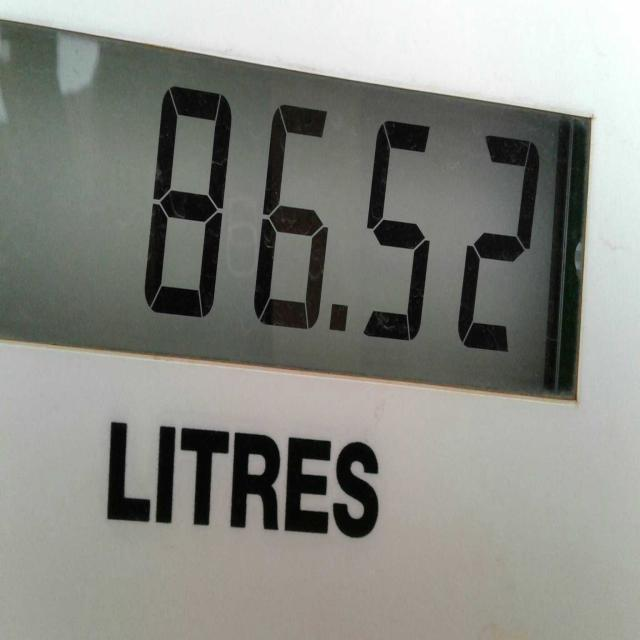.: (330, 303, 348, 341)
2: (460, 131, 540, 353)
5: (366, 121, 432, 344)
6: (256, 103, 328, 330)
8: (143, 88, 231, 316)
